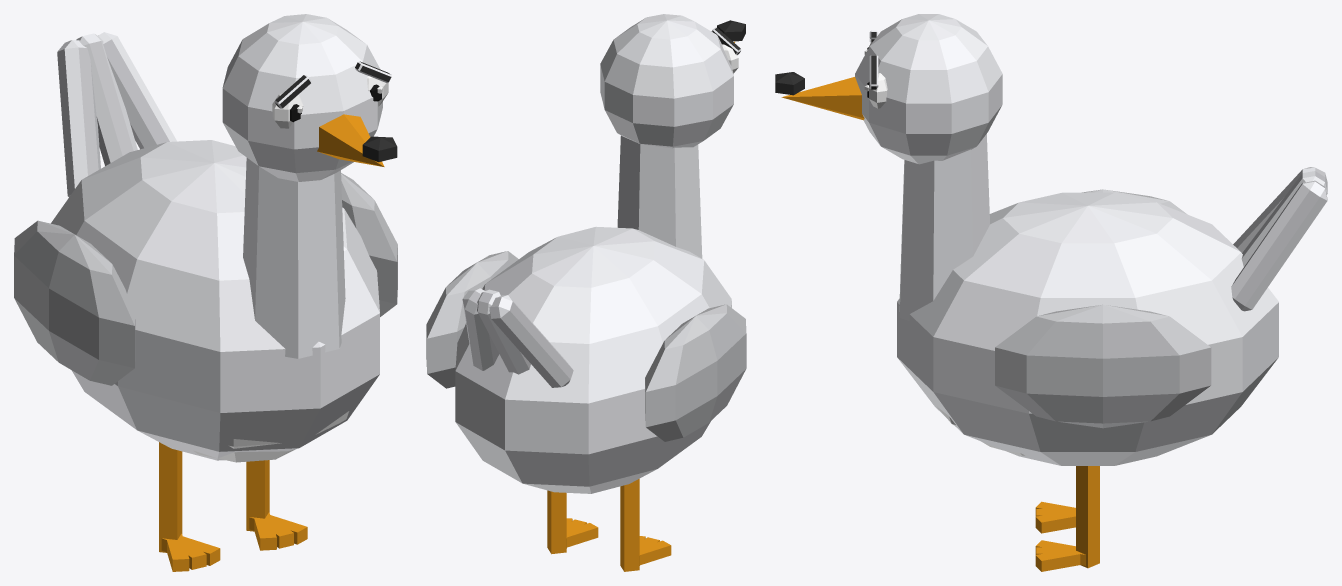
The model's file is gans.glb.
3 renders of one model, left to right at view 1: azimuth 30°, elevation 25°; view 2: azimuth 150°, elevation 25°; view 3: azimuth 270°, elevation 25°, orthographic. The views are drawn at different scales.
Visible parts, largest first — view 1: body-m, head-m; view 2: body-m, head-m; view 3: body-m, head-m.
Boxes of the visible parts, x1,y1,x2,y2 form: body-m: (14, 32, 397, 571); head-m: (222, 14, 397, 181); body-m: (426, 135, 746, 571); head-m: (600, 14, 745, 148); body-m: (897, 134, 1327, 571); head-m: (775, 14, 1002, 164).
Bounding box in the file's own units: 1.08 × 1.91 × 1.82.
